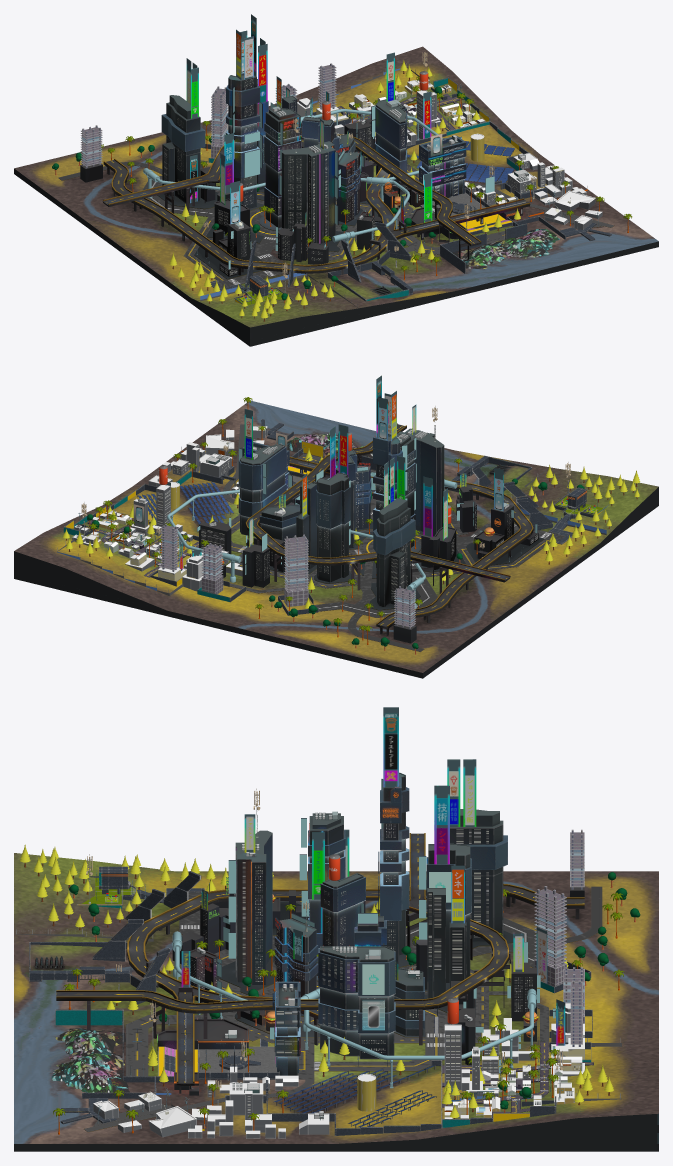
File: cybercity-2099.fbx
3 renders of one model, top to bottom at view 1: azimuth 30°, elevation 25°; view 2: azimuth 150°, elevation 25°; view 3: azimuth 270°, elevation 25°, orthographic. The views are drawn at different scales.
Visible parts, largest first — view 1: Terrain, Buildings_0, Buildings_0_1, Buildings_adds, Bridge_base, Terrain_base, Buildings_1, Trees_Terrain, Buildings_Windows, Streets, Buildings_2, Publicity_2D_1 (+17 smaller); view 2: Terrain, Buildings_0, Terrain_base, Buildings_0_1, Buildings_adds, Trees_Terrain, Streets, Buildings_1, Buildings_2, Bridge_base, Buildings_3, Publicity_2D (+16 smaller); view 3: Terrain, Buildings_0, Buildings_adds, Buildings_0_1, Terrain_base, Streets, Trees_Terrain, Bridge_base, Buildings_2, Buildings_Windows, Publicity_2D, Buildings_2_top (+18 smaller).
Part boxes in pixels (box(x1,y1,x2,y2)): Terrain: box(14, 46, 658, 327); Buildings_0: box(162, 77, 462, 244); Buildings_0_1: box(161, 73, 466, 215); Buildings_adds: box(202, 77, 611, 307); Bridge_base: box(102, 133, 530, 273); Terrain_base: box(14, 168, 658, 346); Buildings_1: box(80, 122, 519, 276); Trees_Terrain: box(52, 60, 632, 321); Buildings_Windows: box(164, 79, 561, 275); Streets: box(58, 139, 613, 288); Buildings_2: box(297, 80, 602, 229); Publicity_2D_1: box(190, 52, 432, 224); Terrain: box(14, 400, 658, 672); Buildings_0: box(240, 435, 444, 607); Terrain_base: box(14, 487, 658, 678); Buildings_0_1: box(238, 435, 415, 555); Buildings_adds: box(63, 419, 608, 615); Trees_Terrain: box(63, 397, 640, 654); Streets: box(223, 424, 564, 651); Buildings_1: box(199, 488, 538, 643); Buildings_2: box(72, 426, 267, 591); Bridge_base: box(245, 424, 533, 629); Buildings_3: box(160, 524, 415, 628); Publicity_2D: box(276, 375, 466, 507); Terrain: box(14, 853, 658, 1143); Buildings_0: box(235, 776, 503, 1075); Buildings_adds: box(29, 866, 592, 1135); Buildings_0_1: box(274, 777, 507, 1075); Terrain_base: box(14, 1113, 658, 1151); Streets: box(84, 886, 602, 1131); Trees_Terrain: box(20, 844, 640, 1134); Bridge_base: box(56, 833, 584, 1085); Buildings_2: box(93, 1007, 584, 1138); Buildings_Windows: box(190, 824, 579, 1118); Publicity_2D: box(181, 707, 476, 994); Buildings_2_top: box(93, 1003, 584, 1134).
Size of the model in its own units: 100000 by 45561 by 100000.
